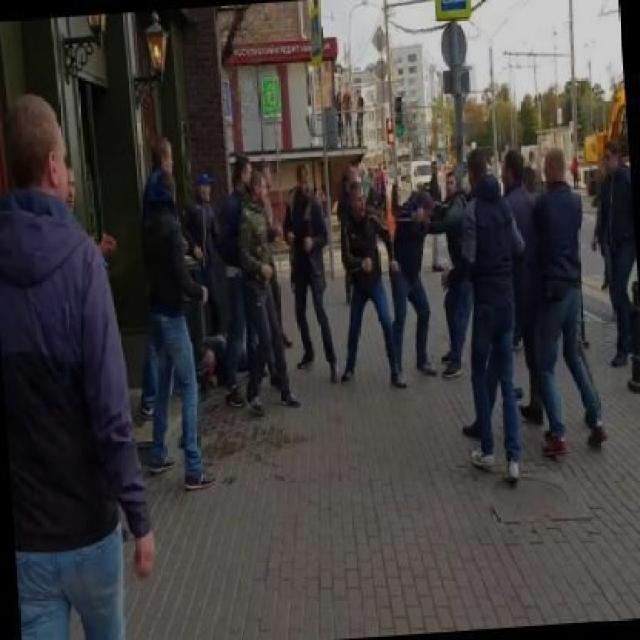fight: (374, 169, 495, 388)
non-fight: (0, 84, 182, 638), (434, 146, 540, 491), (214, 158, 303, 417), (320, 158, 412, 391), (578, 136, 638, 376)
